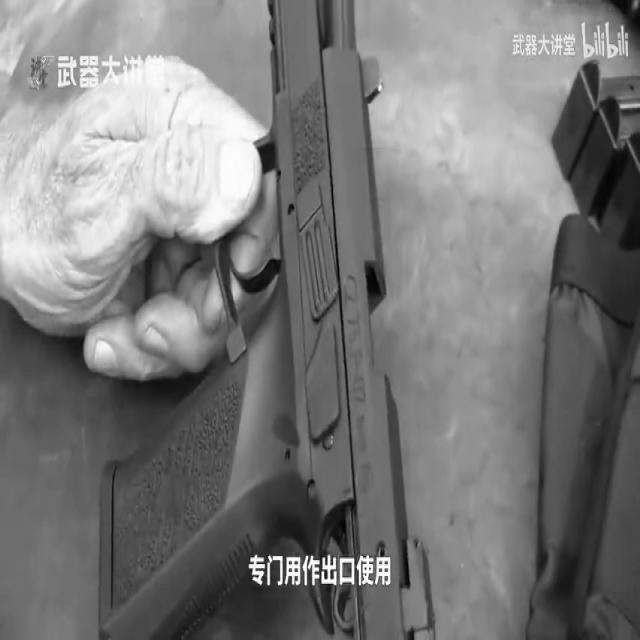Hand-Gun: (34, 7, 492, 640)
